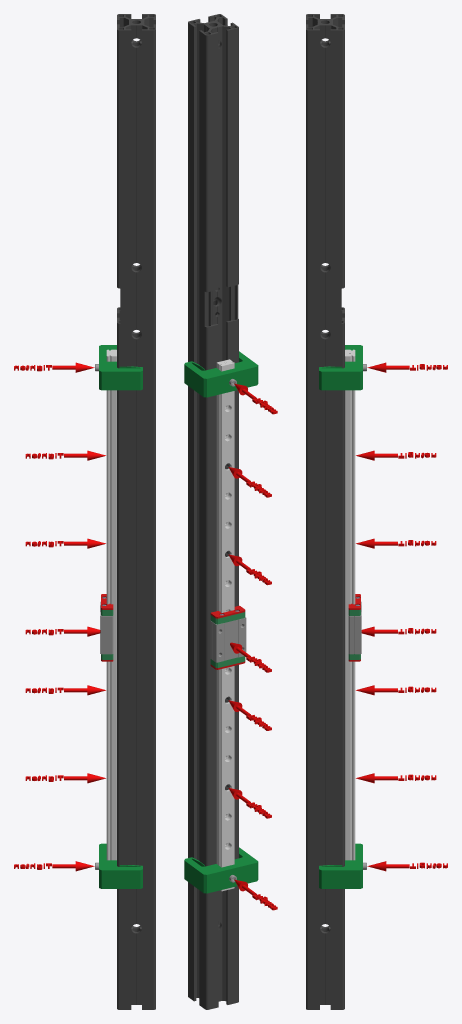
The picture shows the model from 3 angles, left to right: view 1: azimuth 90°, elevation 25°; view 2: azimuth 210°, elevation 25°; view 3: azimuth 270°, elevation 25°; orthographic projection.
Parts seen in each view (by area): view 1: 01_01__XP__Alu_3030_Pillar___V2.0 v24, MGNR12R450HM_FILE_2 v1, 02_47__XP__Fix_MGN12_Rail___V1.0 v005, 02_47__XP__Fix_MGN12_Rail___V1.0 v4, MGN12H, LINEAR GUIDE BLOCK v1; view 2: 01_01__XP__Alu_3030_Pillar___V2.0 v24, MGNR12R450HM_FILE_2 v1, 02_47__XP__Fix_MGN12_Rail___V1.0 v4, 02_47__XP__Fix_MGN12_Rail___V1.0 v005, MGN12H, LINEAR GUIDE BLOCK v1; view 3: 01_01__XP__Alu_3030_Pillar___V2.0 v24, MGNR12R450HM_FILE_2 v1, 02_47__XP__Fix_MGN12_Rail___V1.0 v005, 02_47__XP__Fix_MGN12_Rail___V1.0 v4, MGN12H, LINEAR GUIDE BLOCK v1.
Boxes of the visible parts, x1,y1,x2,y2 form: 01_01__XP__Alu_3030_Pillar___V2.0 v24: (117,14,155,1009); MGNR12R450HM_FILE_2 v1: (106,349,116,860); 02_47__XP__Fix_MGN12_Rail___V1.0 v005: (99,345,142,390); 02_47__XP__Fix_MGN12_Rail___V1.0 v4: (99,843,142,888); MGN12H, LINEAR GUIDE BLOCK v1: (100,601,113,654); 01_01__XP__Alu_3030_Pillar___V2.0 v24: (188,14,238,1009); MGNR12R450HM_FILE_2 v1: (216,359,234,891); 02_47__XP__Fix_MGN12_Rail___V1.0 v4: (184,847,258,893); 02_47__XP__Fix_MGN12_Rail___V1.0 v005: (184,351,258,397); MGN12H, LINEAR GUIDE BLOCK v1: (210,617,246,662); 01_01__XP__Alu_3030_Pillar___V2.0 v24: (306,14,344,1009); MGNR12R450HM_FILE_2 v1: (345,349,355,860); 02_47__XP__Fix_MGN12_Rail___V1.0 v005: (319,345,362,390); 02_47__XP__Fix_MGN12_Rail___V1.0 v4: (319,843,362,888); MGN12H, LINEAR GUIDE BLOCK v1: (348,601,361,654).
Size of the model in its own units: 0.049 by 0.835 by 0.1097.
